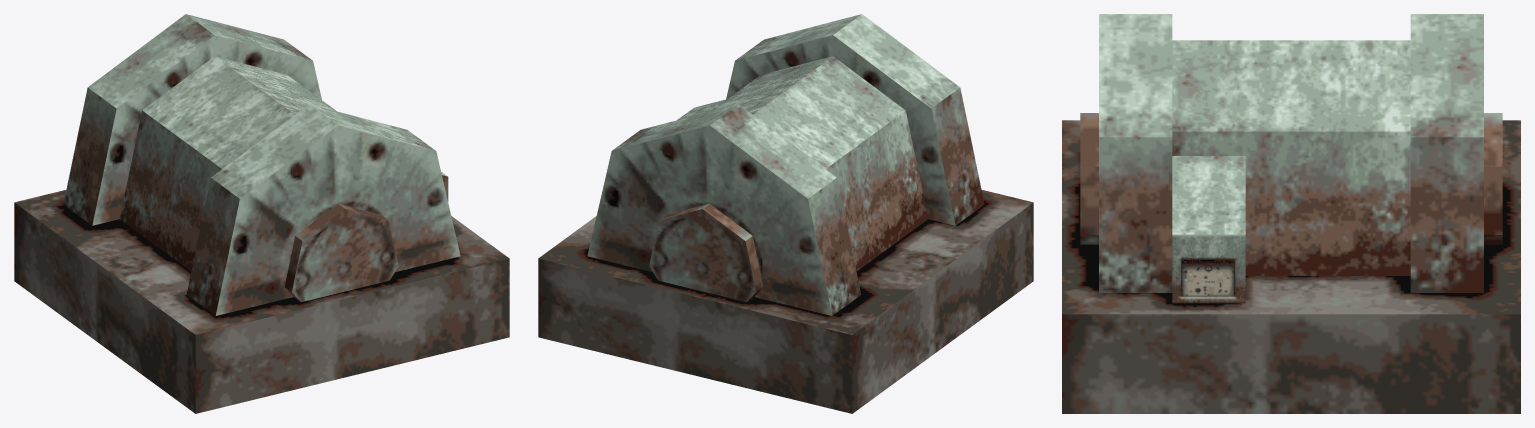
Rendered from Turbine.glb.
3 views of the same model, side by side, from view 1: azimuth 30°, elevation 25°; view 2: azimuth 150°, elevation 25°; view 3: azimuth 270°, elevation 25° (orthographic). The views are drawn at different scales.
Parts seen in each view (by area): view 1: Turbine; view 2: Turbine; view 3: Turbine.
Boxes of the visible parts, x1,y1,x2,y2 form: Turbine: (14, 14, 509, 413); Turbine: (538, 14, 1033, 413); Turbine: (1062, 14, 1520, 413).
Bounding box in the file's own units: 2.5 × 1.82 × 2.5.
1 material, 1 textured.
